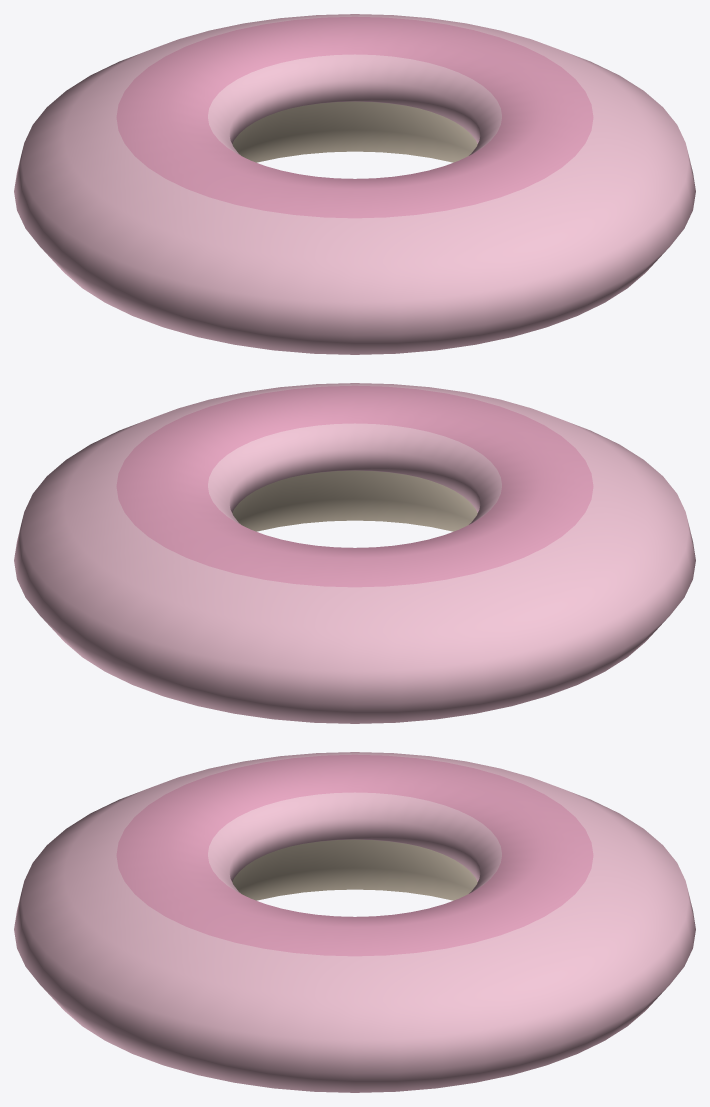
Rendered from donut.fbx.
3 renders of one model, top to bottom at view 1: azimuth 30°, elevation 25°; view 2: azimuth 150°, elevation 25°; view 3: azimuth 270°, elevation 25°, orthographic.
Parts seen in each view (by area): view 1: Donut; view 2: Donut; view 3: Donut.
Part boxes in pixels (left/top/right/bottom): Donut: left=14, top=14, right=695, bottom=354; Donut: left=14, top=383, right=695, bottom=723; Donut: left=14, top=752, right=695, bottom=1092.
Size of the model in its own units: 53.58 by 12.11 by 53.58.
